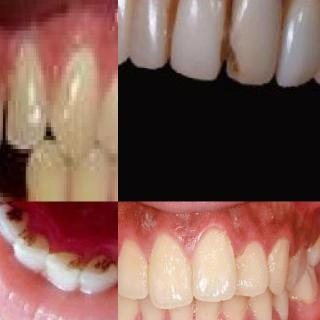Gum Swelling: (205, 212, 290, 257), (161, 219, 204, 258), (124, 226, 157, 259), (288, 289, 320, 320)
maligned: (192, 228, 238, 304), (232, 230, 268, 300)
plaque: (148, 231, 191, 302), (194, 220, 232, 295), (118, 236, 146, 298), (236, 238, 264, 292), (269, 234, 290, 291), (289, 240, 311, 280), (308, 227, 320, 265)
stains: (214, 0, 243, 78), (160, 0, 190, 62), (86, 250, 118, 280), (1, 203, 34, 232), (20, 228, 48, 258), (60, 248, 86, 278), (280, 0, 290, 32)
